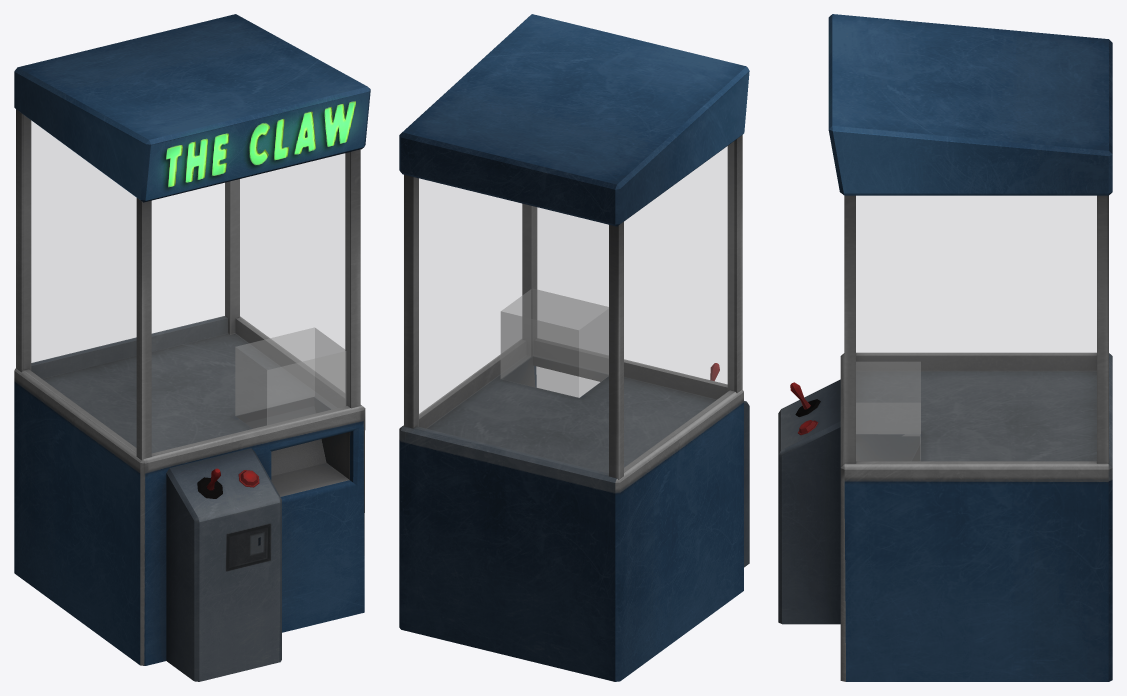
Rendered from claw_machine.glb.
The picture shows the model from 3 angles, left to right: view 1: azimuth 30°, elevation 25°; view 2: azimuth 150°, elevation 25°; view 3: azimuth 270°, elevation 25°; orthographic projection. The views are drawn at different scales.
Parts seen in each view (by area): view 1: polySurface65_solidShader2_0, polySurface24_lambert11_0, polySurface42_blinn4_0; view 2: polySurface65_solidShader2_0, polySurface24_lambert11_0, polySurface42_blinn4_0; view 3: polySurface65_solidShader2_0, polySurface24_lambert11_0, polySurface42_blinn4_0.
Part boxes in pixels (left/top/right/bottom): polySurface65_solidShader2_0: left=14, top=14, right=370, bottom=681; polySurface24_lambert11_0: left=24, top=116, right=349, bottom=455; polySurface42_blinn4_0: left=235, top=327, right=345, bottom=428; polySurface65_solidShader2_0: left=399, top=14, right=749, bottom=681; polySurface24_lambert11_0: left=414, top=142, right=733, bottom=474; polySurface42_blinn4_0: left=500, top=289, right=608, bottom=397; polySurface65_solidShader2_0: left=778, top=14, right=1112, bottom=681; polySurface24_lambert11_0: left=856, top=196, right=1096, bottom=462; polySurface42_blinn4_0: left=856, top=362, right=920, bottom=460.
Size of the model in its own units: 1.86 by 4.19 by 2.29.
Materials: 3 (1 with a texture image).
